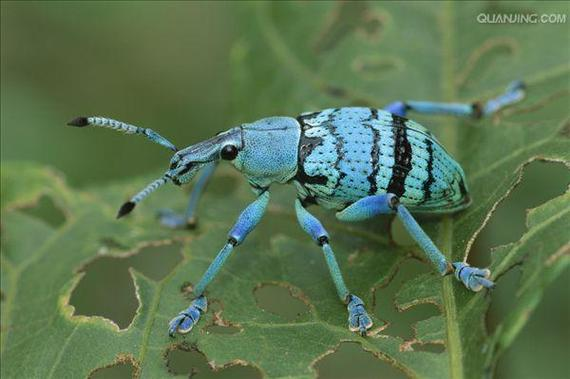Curculionidae: (64, 76, 528, 339)
